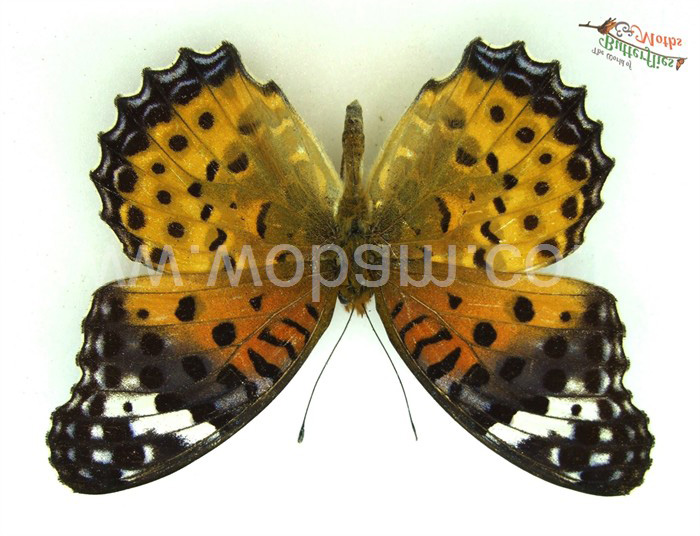Argyreus hyperbius: (39, 26, 657, 504)
butterfly: (41, 28, 659, 506)
